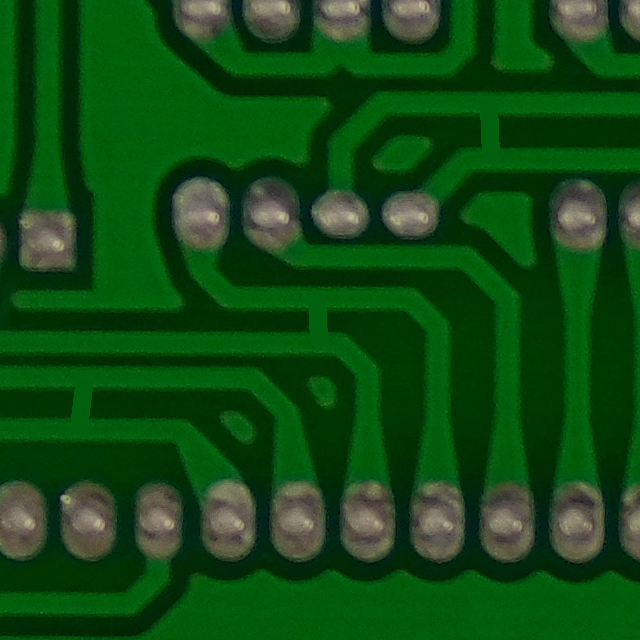short: (267, 274, 374, 367), (445, 79, 545, 177), (31, 355, 134, 448)
